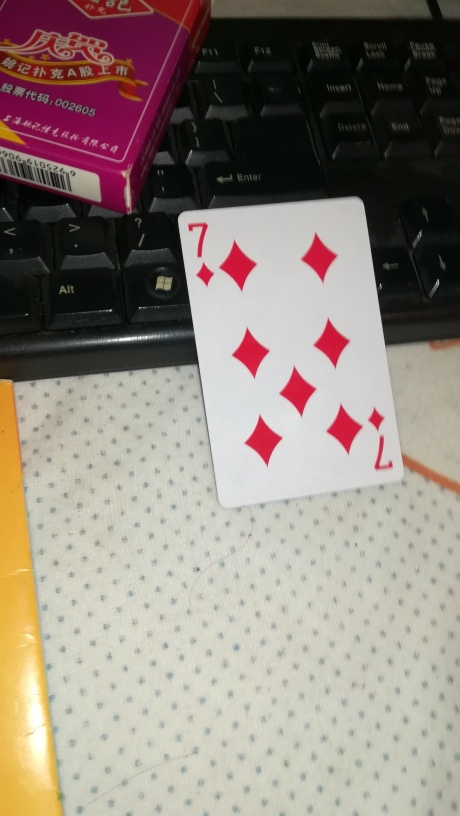fk 7: (176, 197, 415, 505)
